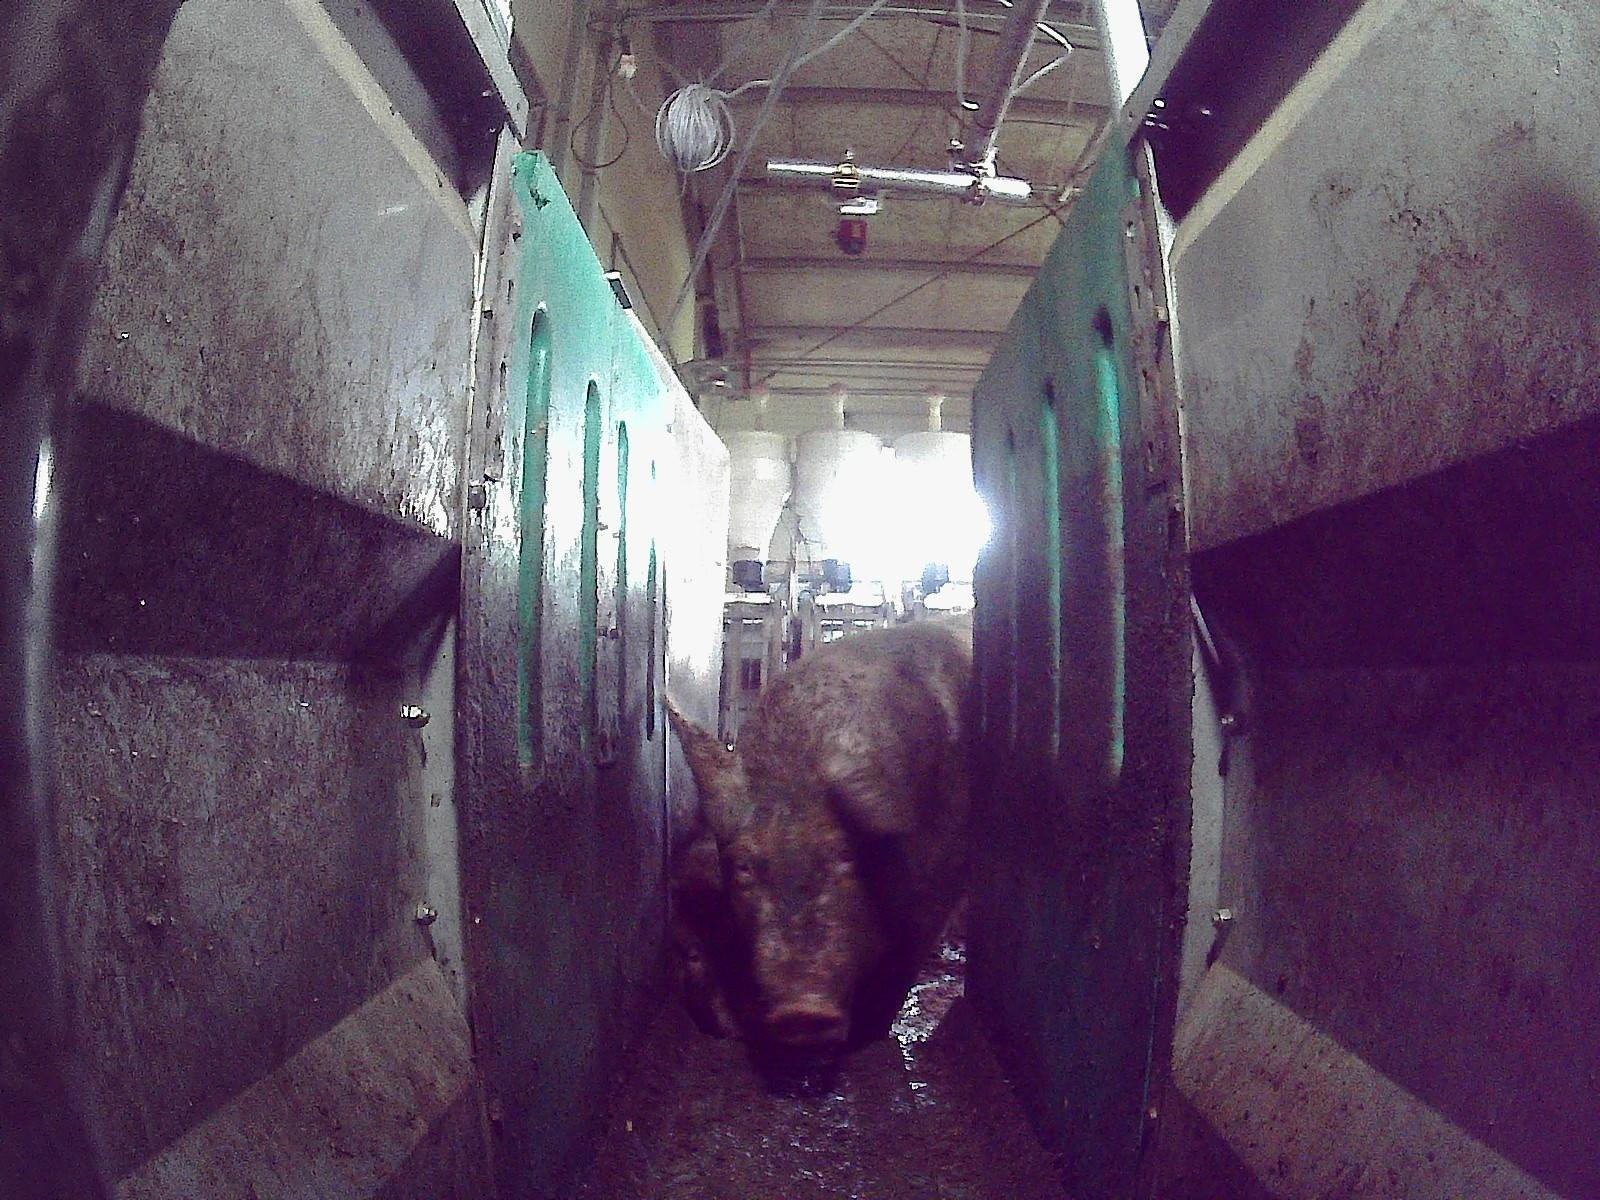Face: (709, 772, 904, 1045)
